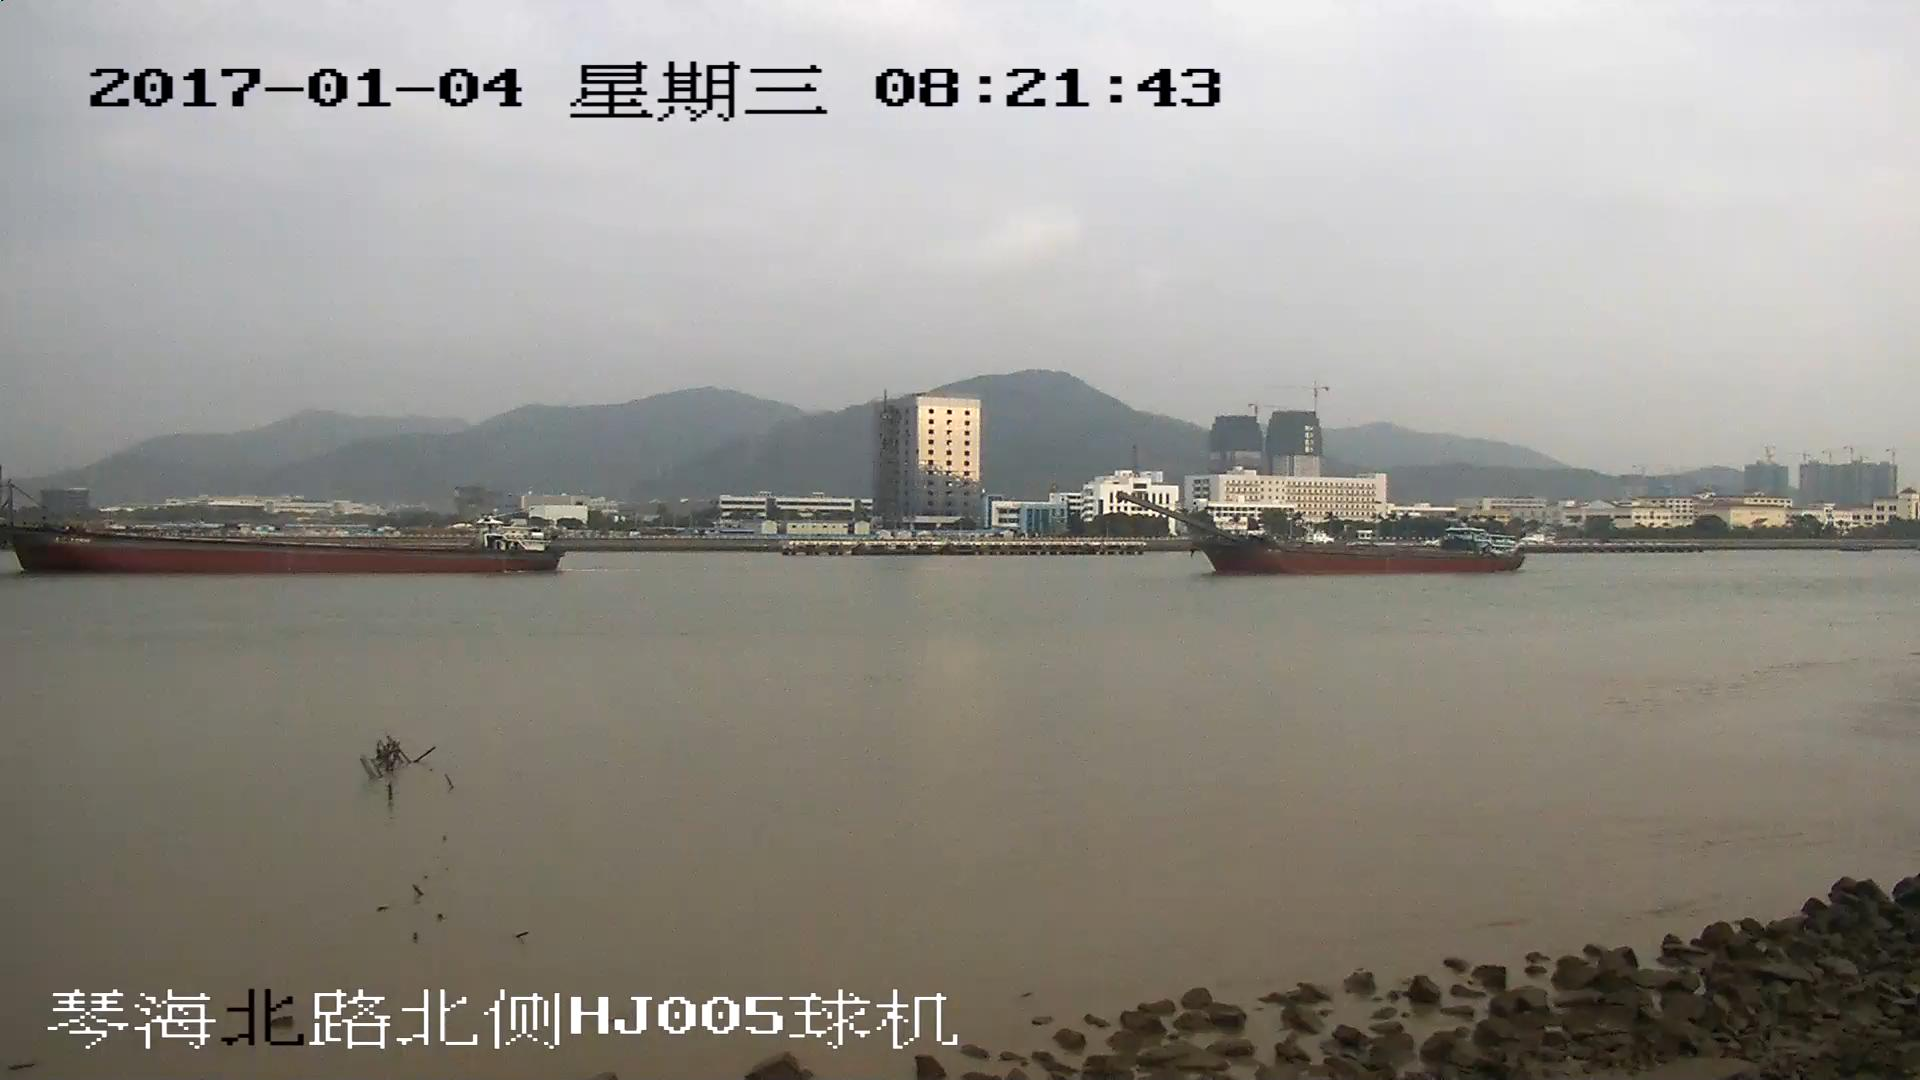bulk cargo carrier: (1, 482, 561, 572), (1116, 495, 1522, 577)
